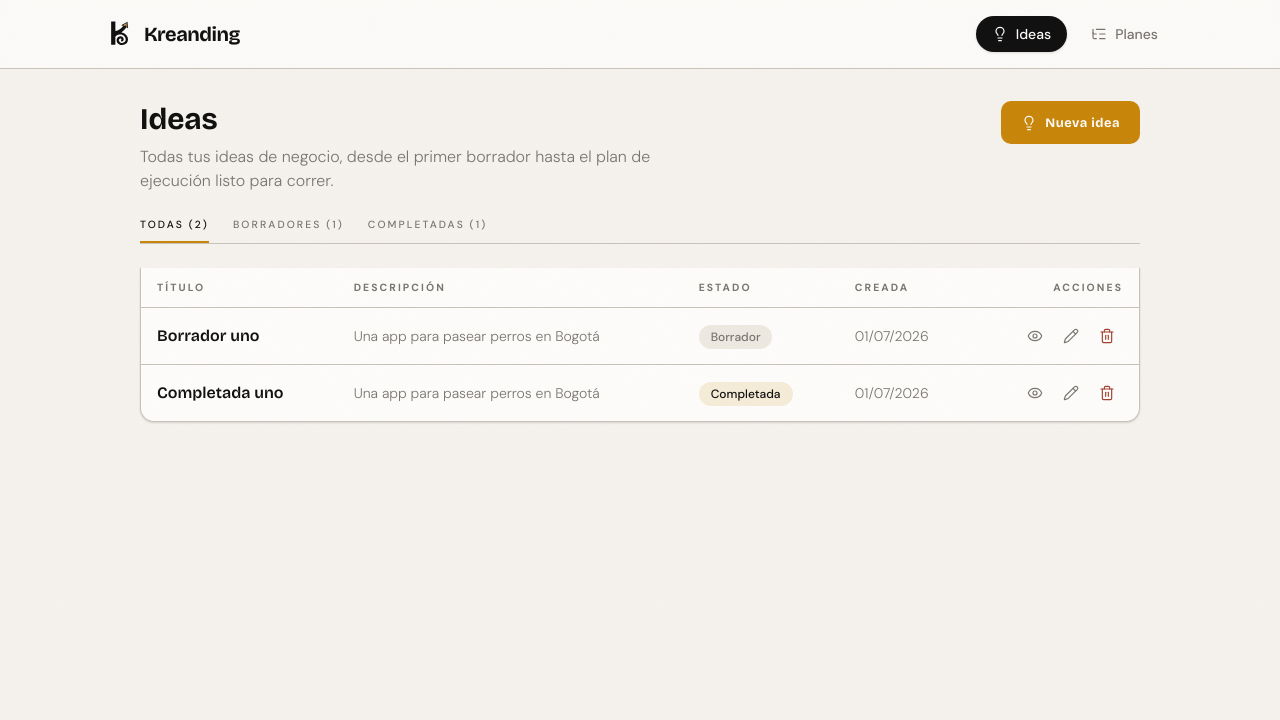
Test case: Listado de ideas › filtra por estado sin volver a pedir al backend
The width and height of the screenshot is (1280, 720).
Expected: the table is shown, [141,268,1139,421]
Click the button "Completadas (1)": (428, 230) [368,217,487,243]
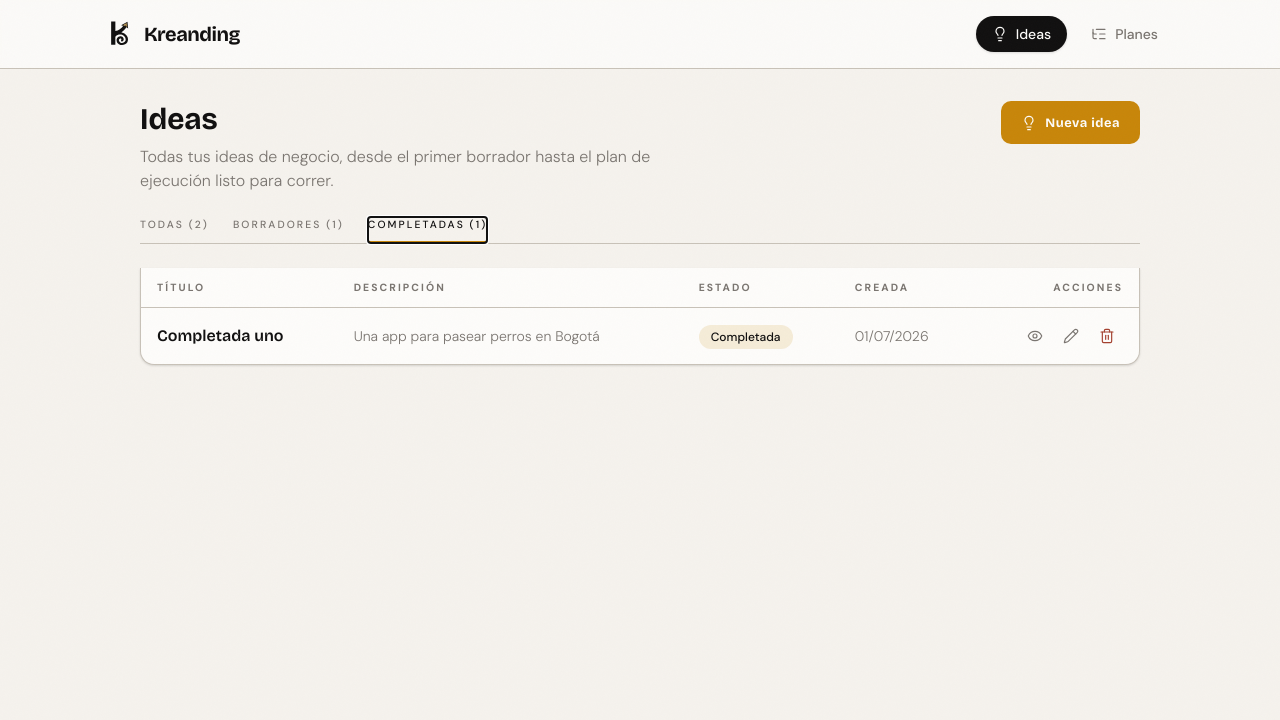
Expected: the text "Completada uno" is shown, [141,308,338,364]
Expected: the text "Borrador uno" is gone
